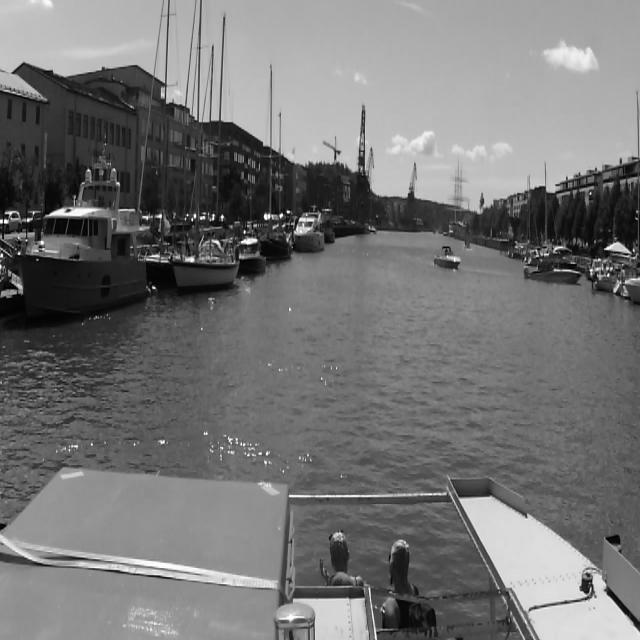ship: (16, 154, 148, 314), (173, 0, 243, 291), (260, 63, 292, 259), (521, 252, 583, 286), (294, 206, 324, 252), (240, 239, 264, 272), (435, 243, 459, 270)
